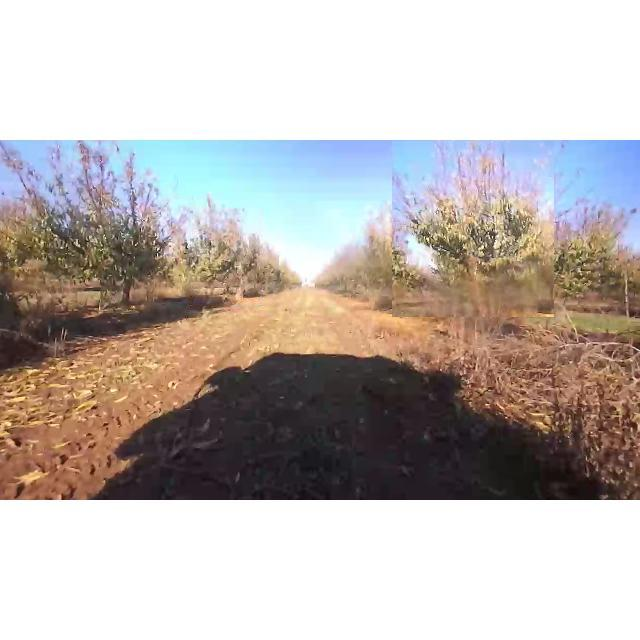direk: (0, 142, 184, 312), (392, 141, 554, 317), (191, 208, 261, 306)
